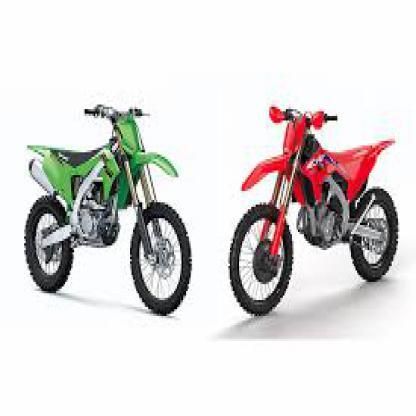Motorcycle: (224, 79, 404, 324), (17, 86, 196, 326)
